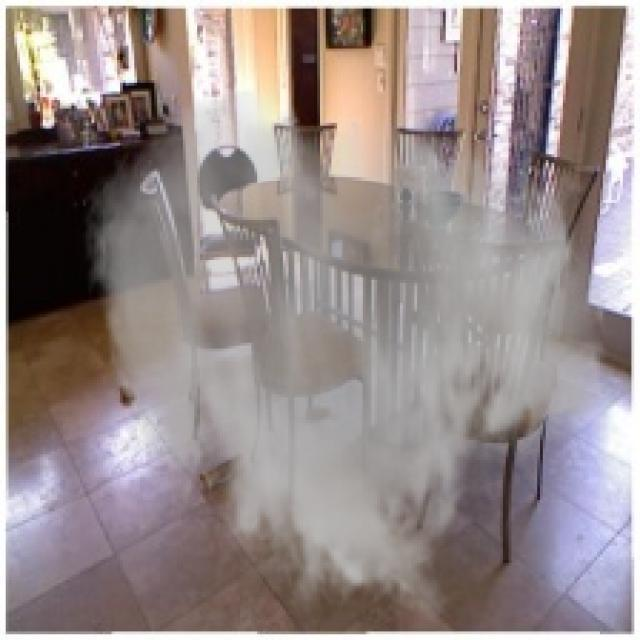Smoke: (79, 85, 612, 626)
